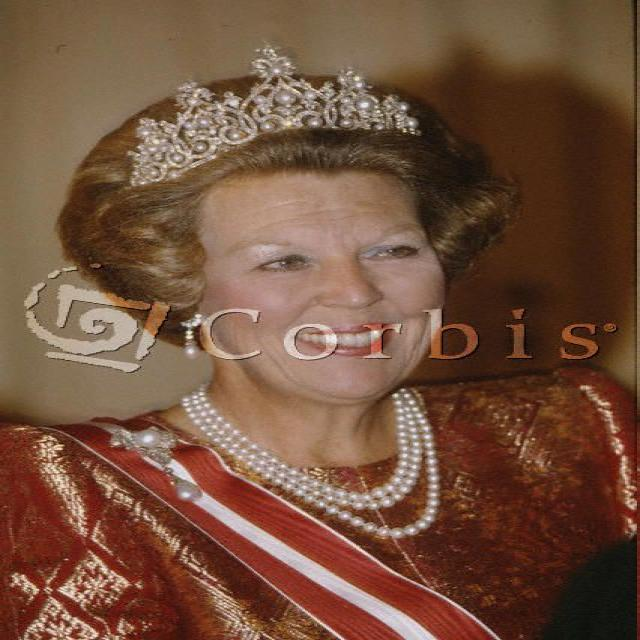Earring: (166, 286, 212, 362)
